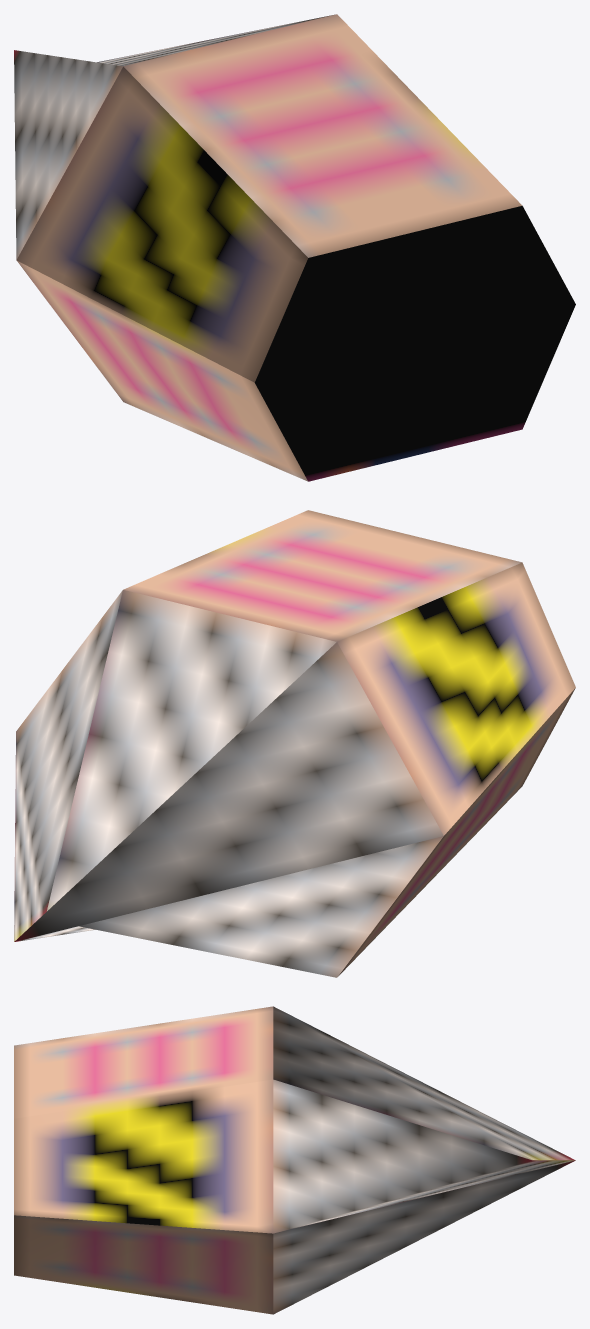
File: evildrill.obj
3 views of the same model, one above another, from view 1: azimuth 30°, elevation 25°; view 2: azimuth 150°, elevation 25°; view 3: azimuth 270°, elevation 25° (orthographic). The views are drawn at different scales.
Visible parts, largest first — view 1: evildrill.002; view 2: evildrill.002; view 3: evildrill.002.
Part boxes in pixels (box(x1,y1,x2,y2)): evildrill.002: box(14, 14, 575, 481); evildrill.002: box(14, 510, 575, 977); evildrill.002: box(14, 1006, 575, 1314).
Size of the model in its own units: 2 by 1.5 by 3.25.
